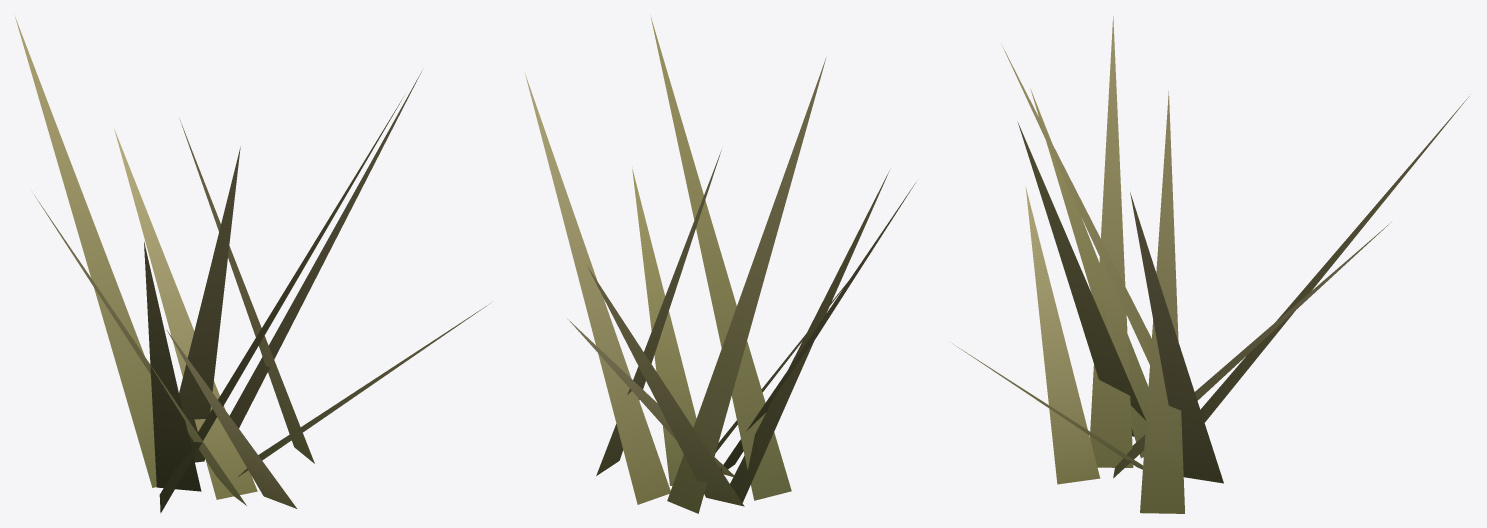
Rendered from env_med_grass.glb.
The picture shows the model from 3 angles, left to right: view 1: azimuth 30°, elevation 25°; view 2: azimuth 150°, elevation 25°; view 3: azimuth 270°, elevation 25°; orthographic projection. The views are drawn at different scales.
Parts seen in each view (by area): view 1: env_med_grass; view 2: env_med_grass; view 3: env_med_grass.
Boxes of the visible parts, <box> form: env_med_grass: <box>15,17,490,513</box>; env_med_grass: <box>524,15,915,513</box>; env_med_grass: <box>952,16,1470,513</box>.
Size of the model in its own units: 0.6106 by 0.5969 by 0.695.
